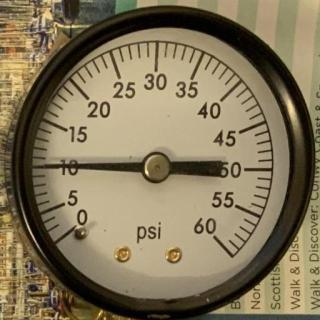gauge: (2, 1, 318, 318), (50, 203, 102, 252), (140, 151, 172, 185), (202, 223, 234, 253), (28, 159, 50, 173)
